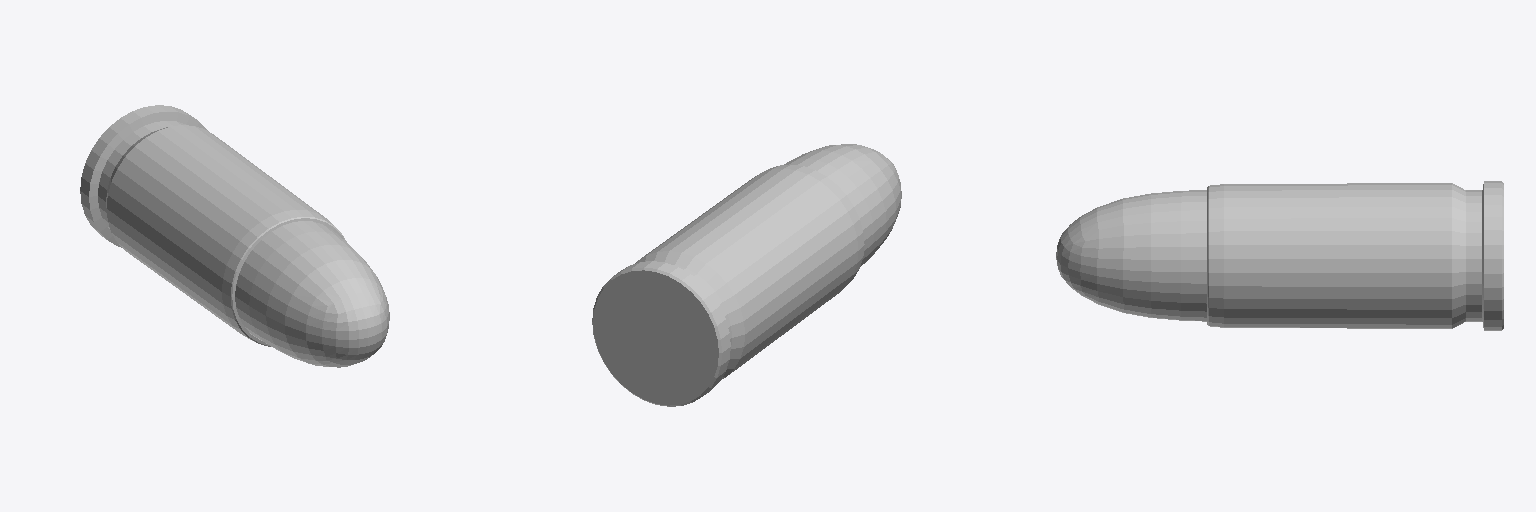
The model's file is bullet.obj.
The picture shows the model from 3 angles: view 1: azimuth 30°, elevation 25°; view 2: azimuth 150°, elevation 25°; view 3: azimuth 270°, elevation 25°; orthographic projection.
Parts seen in each view (by area): view 1: 9mm_Shell, 9mm_Bullet; view 2: 9mm_Shell, 9mm_Bullet; view 3: 9mm_Shell, 9mm_Bullet.
Boxes of the visible parts, x1=… form: 9mm_Shell: x1=80, y1=105, x2=346, y2=346; 9mm_Bullet: x1=235, y1=221, x2=389, y2=367; 9mm_Shell: x1=592, y1=164, x2=864, y2=406; 9mm_Bullet: x1=784, y1=144, x2=901, y2=266; 9mm_Shell: x1=1207, y1=181, x2=1503, y2=330; 9mm_Bullet: x1=1056, y1=190, x2=1206, y2=321.
Bounding box in the file's own units: 2.04 × 2.04 × 6.07.